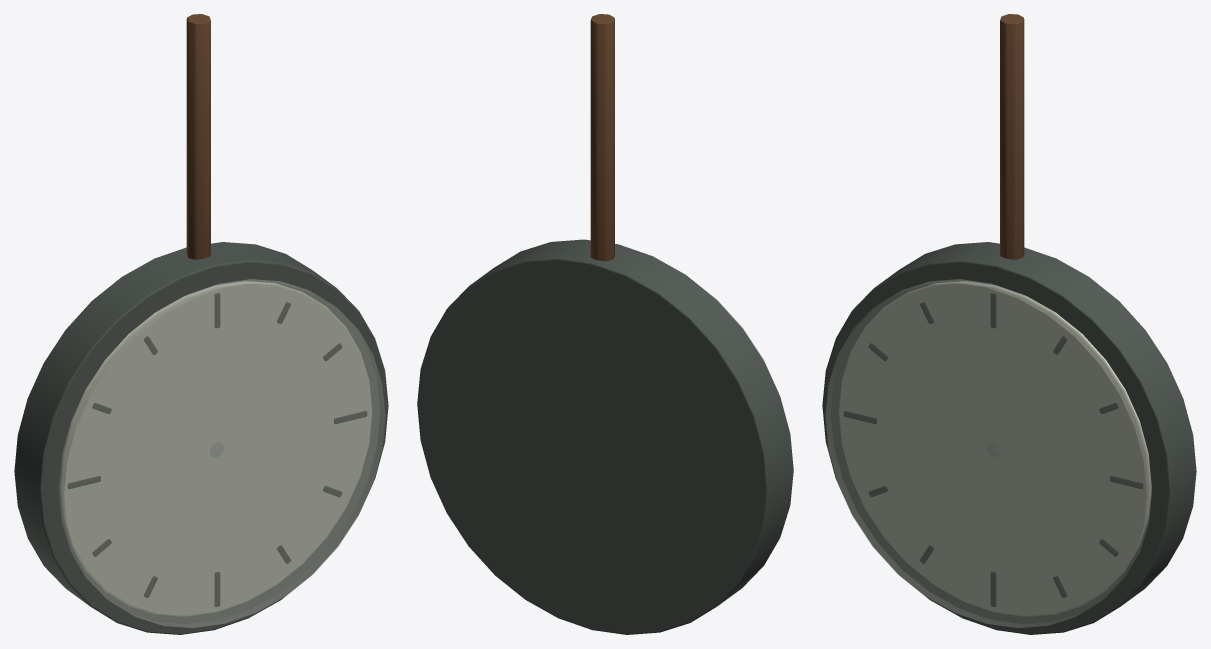
The model's file is PROP_Clock_Wall_Historic.glb.
The picture shows the model from 3 angles, left to right: view 1: azimuth 30°, elevation 25°; view 2: azimuth 150°, elevation 25°; view 3: azimuth 330°, elevation 25°; orthographic projection.
Visible parts, largest first — view 1: PROP_Clock_Wall_Historic_Mesh, PROP_Clock_Wall_Historic_Glass; view 2: PROP_Clock_Wall_Historic_Mesh; view 3: PROP_Clock_Wall_Historic_Mesh, PROP_Clock_Wall_Historic_Glass.
Boxes of the visible parts, x1,y1,x2,y2 form: PROP_Clock_Wall_Historic_Mesh: (14,14,388,634); PROP_Clock_Wall_Historic_Glass: (59,279,385,627); PROP_Clock_Wall_Historic_Mesh: (417,14,793,634); PROP_Clock_Wall_Historic_Mesh: (822,14,1196,634); PROP_Clock_Wall_Historic_Glass: (825,279,1151,627).
Size of the model in its own units: 0.38 by 0.625 by 0.069.
